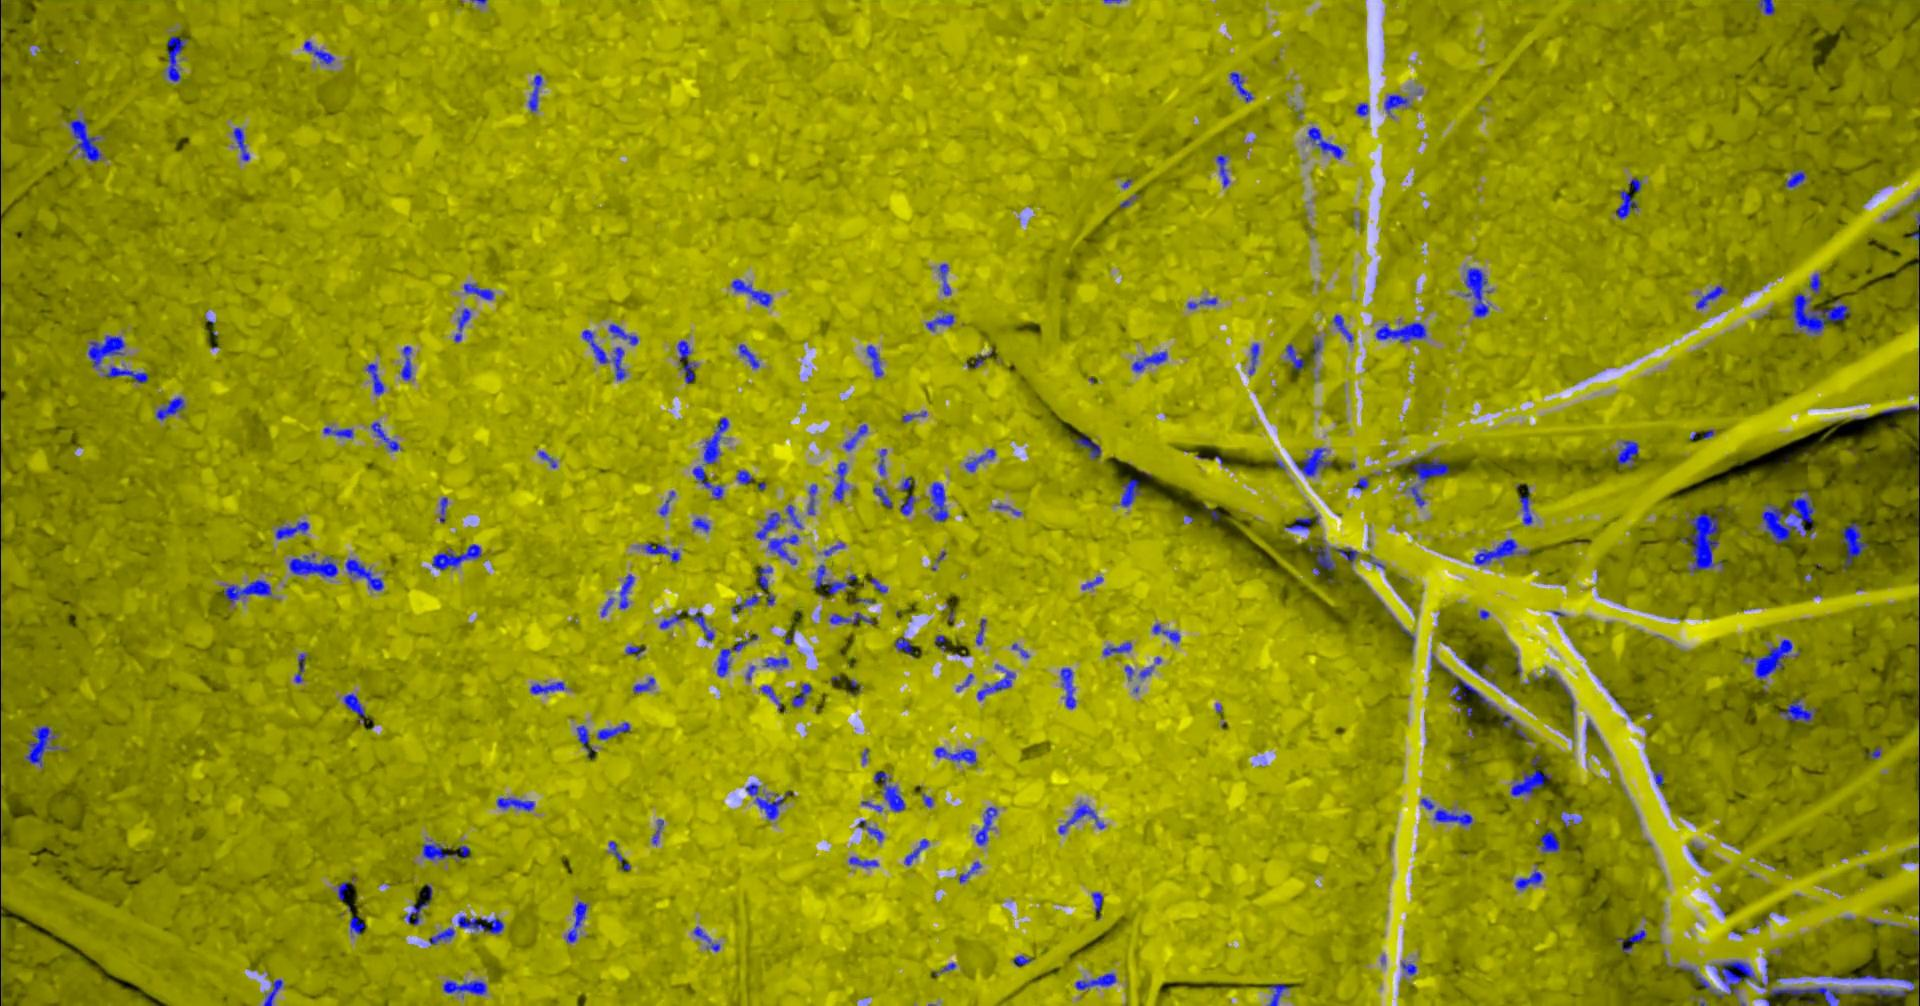ant: (1451, 674, 1512, 727), (692, 417, 728, 499), (1831, 970, 1919, 1001), (582, 329, 625, 380), (1743, 639, 1790, 680), (1716, 960, 1764, 993), (1473, 539, 1529, 564), (430, 542, 481, 570), (745, 782, 783, 819), (69, 119, 102, 161), (1769, 986, 1841, 1005), (977, 664, 1015, 700), (1058, 804, 1103, 833), (1839, 522, 1867, 569), (1464, 267, 1490, 318), (25, 725, 57, 766), (814, 564, 856, 594), (88, 335, 124, 370), (1879, 403, 1919, 434), (872, 771, 904, 810), (345, 558, 383, 589), (403, 883, 430, 925), (716, 639, 748, 676), (730, 278, 771, 306), (1510, 768, 1550, 796), (1307, 127, 1342, 158), (1294, 447, 1331, 476), (223, 579, 270, 602), (288, 555, 337, 577), (1407, 457, 1449, 481), (1308, 539, 1335, 575), (1375, 323, 1426, 342), (767, 533, 797, 564), (422, 840, 469, 859), (1778, 699, 1815, 723), (166, 36, 185, 81), (457, 915, 503, 934), (370, 420, 397, 451), (566, 901, 587, 942), (975, 807, 997, 845), (928, 481, 949, 521), (1131, 351, 1167, 372), (1229, 71, 1253, 102), (1615, 929, 1646, 953), (104, 366, 149, 382), (964, 448, 996, 471), (691, 610, 714, 641), (1074, 972, 1115, 989), (303, 39, 333, 64), (643, 542, 679, 561), (343, 692, 366, 723), (1677, 967, 1709, 988), (1073, 433, 1100, 459), (935, 747, 975, 763), (1695, 285, 1724, 307), (155, 396, 184, 419), (1432, 809, 1472, 826), (693, 926, 719, 951), (756, 512, 780, 539), (904, 838, 928, 865), (1615, 439, 1638, 467), (608, 323, 637, 344), (608, 841, 630, 870), (442, 981, 486, 995), (1060, 667, 1076, 708), (843, 424, 867, 450), (276, 521, 309, 539), (832, 462, 847, 500), (1617, 191, 1637, 218), (731, 593, 759, 614), (1514, 869, 1542, 889), (597, 721, 629, 739), (738, 343, 759, 368), (232, 127, 249, 160), (453, 307, 470, 340), (1332, 314, 1352, 340), (366, 363, 383, 394), (761, 685, 781, 711), (577, 725, 594, 756), (1120, 478, 1139, 506), (497, 796, 535, 810), (857, 821, 883, 841), (528, 74, 542, 111), (1285, 343, 1304, 370), (1152, 622, 1178, 641), (263, 978, 282, 1005), (866, 345, 883, 376), (924, 312, 952, 330), (829, 612, 872, 624), (791, 683, 811, 708), (1519, 486, 1531, 525), (618, 574, 632, 608), (957, 861, 980, 882), (1215, 154, 1229, 187), (1384, 94, 1408, 113), (337, 876, 356, 901), (530, 681, 565, 694), (463, 283, 493, 298), (1848, 988, 1906, 996), (428, 927, 455, 944), (1539, 829, 1559, 851), (1267, 983, 1288, 1005), (872, 486, 891, 508), (1102, 641, 1131, 655), (658, 490, 674, 514), (400, 345, 411, 379), (323, 426, 352, 438), (786, 504, 801, 528), (938, 263, 950, 295), (1332, 547, 1357, 561), (681, 361, 696, 384), (757, 567, 772, 588), (659, 612, 681, 627), (632, 677, 654, 692), (1091, 892, 1102, 920), (1784, 171, 1804, 187), (1186, 297, 1217, 307), (1248, 343, 1258, 373), (900, 494, 916, 514), (295, 653, 305, 683), (1284, 517, 1310, 528), (1081, 575, 1102, 589), (848, 856, 877, 866), (538, 451, 556, 467), (677, 340, 690, 363), (651, 819, 663, 845), (1410, 485, 1423, 506), (1910, 212, 1919, 244), (894, 636, 910, 653), (808, 484, 817, 514), (870, 577, 888, 592), (975, 619, 985, 645), (349, 916, 364, 934), (902, 412, 926, 422), (877, 448, 886, 475), (764, 657, 787, 667), (1012, 955, 1032, 967), (1757, 0, 1774, 14), (692, 517, 709, 531), (900, 476, 914, 492), (1810, 273, 1820, 293), (737, 470, 750, 484), (1628, 177, 1641, 192), (439, 497, 447, 522), (1401, 962, 1416, 974), (1863, 747, 1879, 758), (1652, 770, 1663, 786), (935, 634, 945, 652), (625, 645, 643, 655), (1352, 478, 1368, 489), (1355, 103, 1368, 116)
